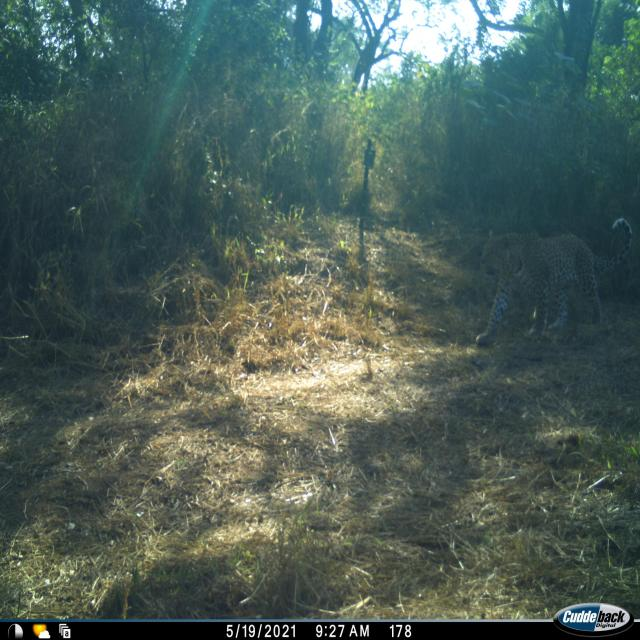Leopard: (475, 214, 633, 345)
